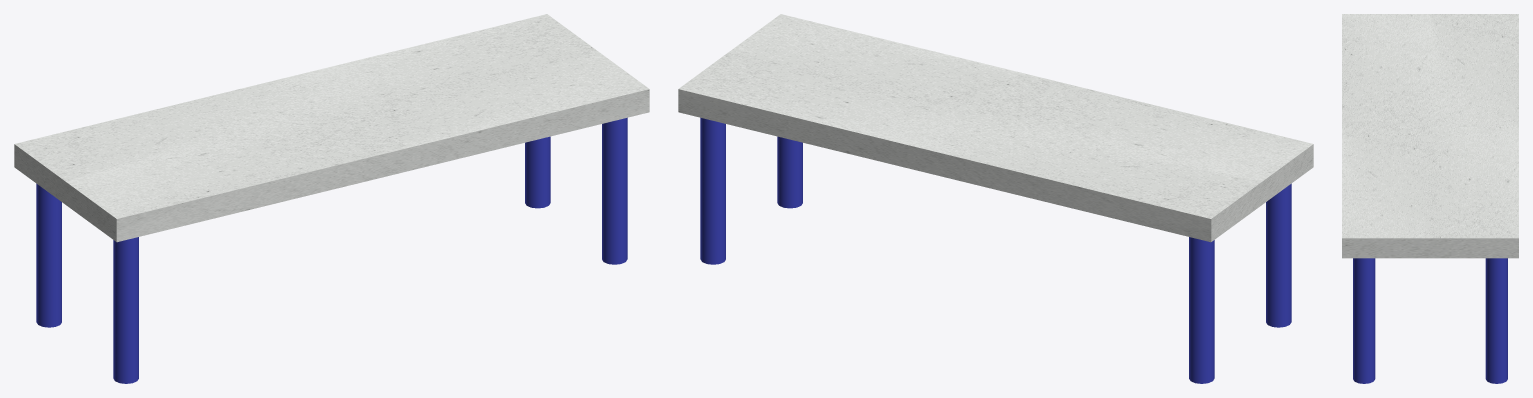
The model's file is MetalDesk.obj.
3 renders of one model, left to right at view 1: azimuth 30°, elevation 25°; view 2: azimuth 150°, elevation 25°; view 3: azimuth 270°, elevation 25°, orthographic. The views are drawn at different scales.
Parts seen in each view (by area): view 1: mesh01, cylinder01, cylinder04, cylinder02, cylinder03; view 2: mesh01, cylinder02, cylinder03, cylinder01, cylinder04; view 3: mesh01, cylinder03, cylinder04.
Boxes of the visible parts, left/top/right/bottom form: mesh01: left=14, top=14, right=649, bottom=242; cylinder01: left=113, top=237, right=138, bottom=383; cylinder04: left=602, top=117, right=627, bottom=264; cylinder02: left=36, top=183, right=61, bottom=327; cylinder03: left=525, top=136, right=550, bottom=208; mesh01: left=678, top=14, right=1313, bottom=242; cylinder02: left=1189, top=237, right=1214, bottom=383; cylinder03: left=700, top=117, right=725, bottom=264; cylinder01: left=1266, top=183, right=1291, bottom=327; cylinder04: left=777, top=136, right=802, bottom=208; mesh01: left=1342, top=14, right=1518, bottom=258; cylinder03: left=1485, top=258, right=1507, bottom=383; cylinder04: left=1353, top=258, right=1375, bottom=383.
Size of the model in its own units: 12 by 3.75 by 4.
2 materials, 2 textured.
